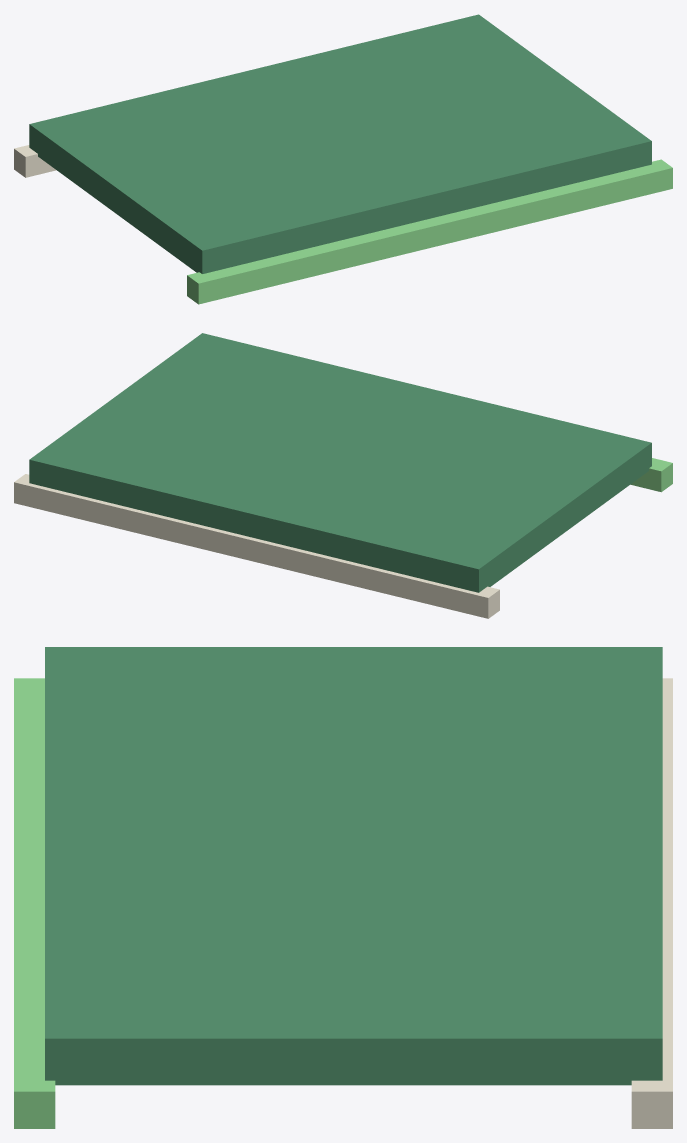
The model's file is 01_world_facade.glb.
3 views of the same model, one above another, from view 1: azimuth 30°, elevation 25°; view 2: azimuth 150°, elevation 25°; view 3: azimuth 270°, elevation 25° (orthographic). The views are drawn at different scales.
Parts seen in each view (by area): view 1: wall_panel_upgrade, trim_top, trim_bottom; view 2: wall_panel_upgrade, trim_bottom, trim_top; view 3: wall_panel_upgrade, trim_top, trim_bottom.
Boxes of the visible parts, left/top/right/bottom form: wall_panel_upgrade: left=29, top=14, right=651, bottom=273; trim_top: left=187, top=159, right=672, bottom=304; trim_bottom: left=14, top=145, right=56, bottom=177; wall_panel_upgrade: left=29, top=333, right=651, bottom=592; trim_bottom: left=14, top=474, right=499, bottom=618; trim_top: left=630, top=458, right=672, bottom=492; wall_panel_upgrade: left=45, top=647, right=662, bottom=1085; trim_top: left=14, top=678, right=55, bottom=1128; trim_bottom: left=631, top=678, right=672, bottom=1128.
Bounding box in the file's own units: 1.9 × 0.17 × 1.28.
